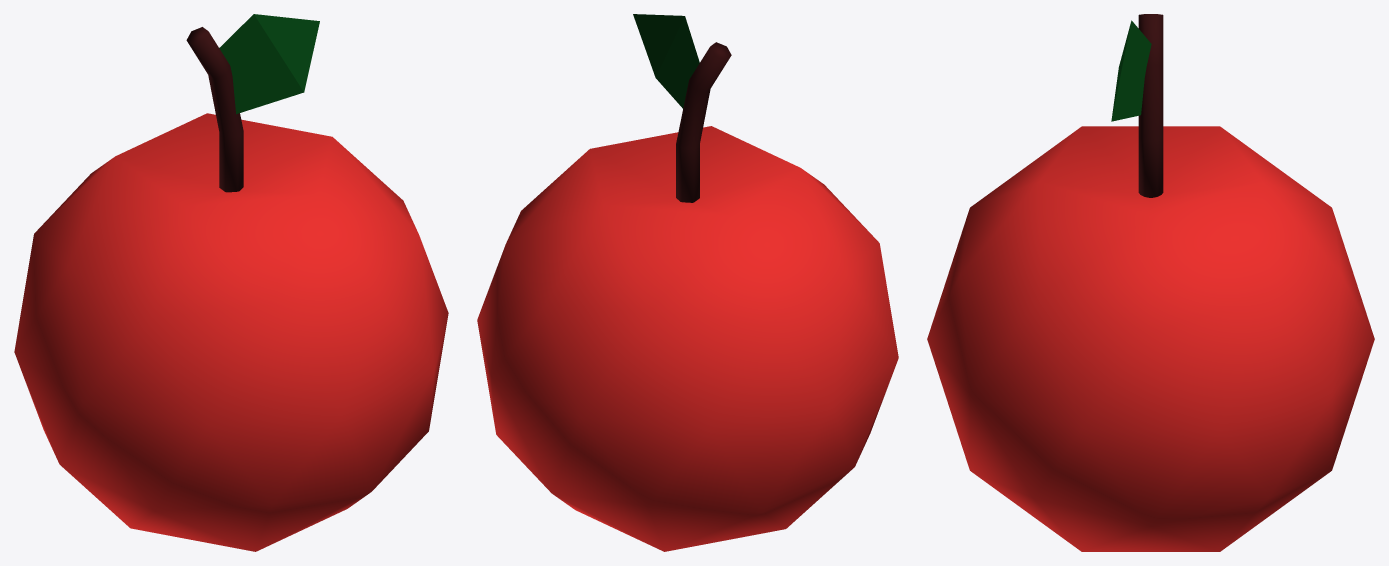
Rendered from apple.fbx.
3 views of the same model, side by side, from view 1: azimuth 30°, elevation 25°; view 2: azimuth 150°, elevation 25°; view 3: azimuth 270°, elevation 25° (orthographic). The views are drawn at different scales.
Parts seen in each view (by area): view 1: Icosphere; view 2: Icosphere; view 3: Icosphere.
Boxes of the visible parts, box(x1,y1,x2,y2) form: Icosphere: box(14, 14, 448, 551); Icosphere: box(477, 14, 898, 551); Icosphere: box(927, 14, 1374, 551).
Size of the model in its own units: 37.16 by 50.86 by 39.07.
